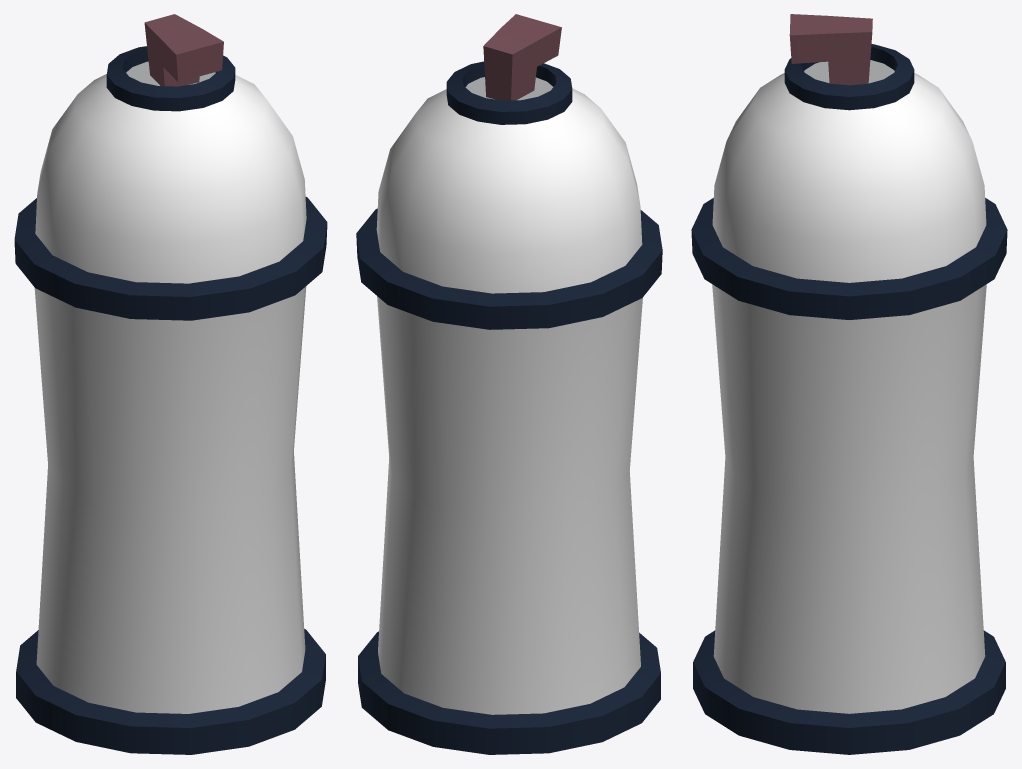
Rendered from SprayBottle.fbx.
3 renders of one model, left to right at view 1: azimuth 30°, elevation 25°; view 2: azimuth 150°, elevation 25°; view 3: azimuth 270°, elevation 25°, orthographic. The views are drawn at different scales.
Visible parts, largest first — view 1: Spray Bottle; view 2: Spray Bottle; view 3: Spray Bottle.
Boxes of the visible parts, x1=… form: Spray Bottle: x1=14, y1=14, x2=327, y2=754; Spray Bottle: x1=356, y1=14, x2=662, y2=754; Spray Bottle: x1=691, y1=14, x2=1007, y2=754.
Bounding box in the file's own units: 34.38 × 79.8 × 34.38.
